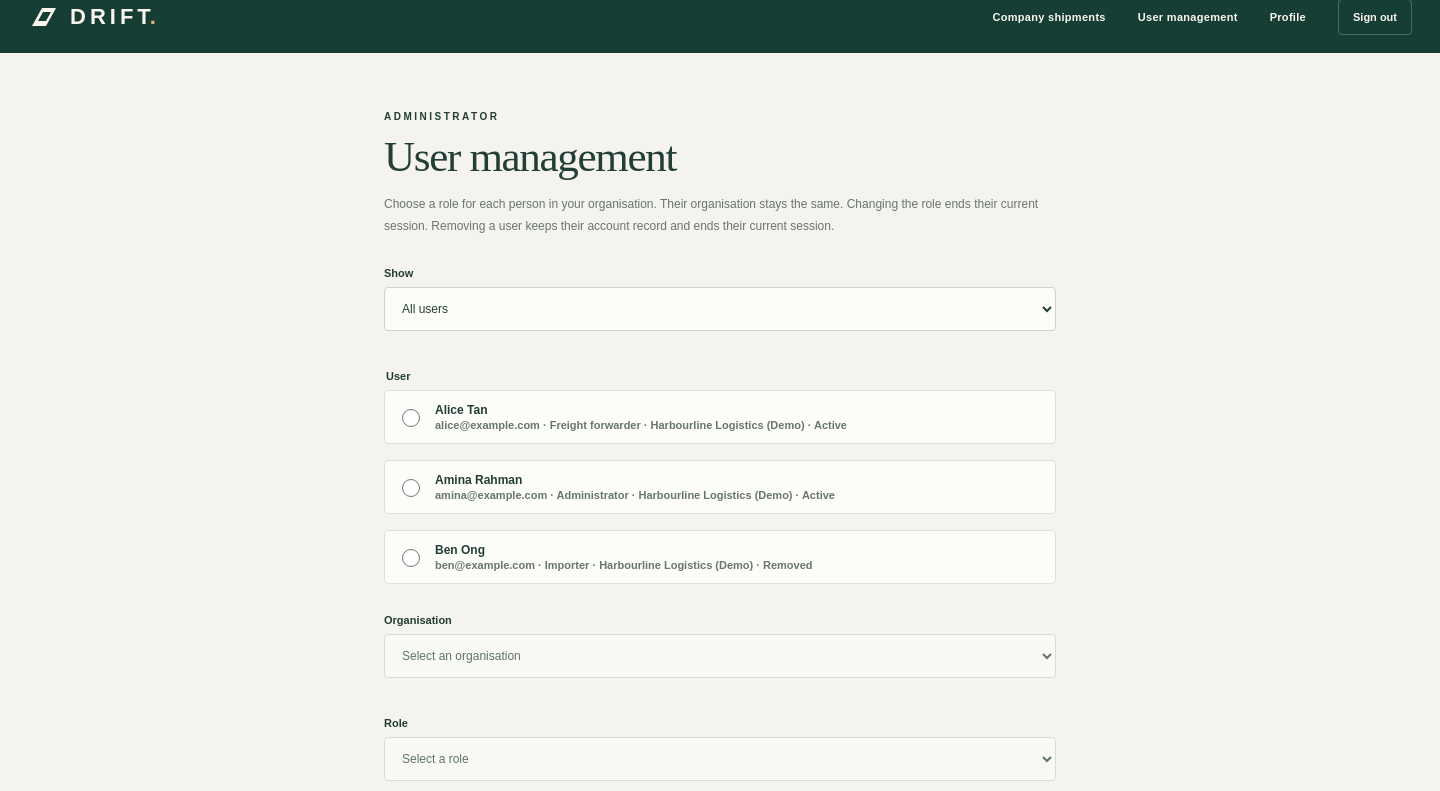
account removal › removes the confirmed user, updates the row and refreshes the history
The image size is (1440, 791).
Click the radio button labelled "Alice Tan": (411, 418) [402,409,420,427]
(page scrolled)
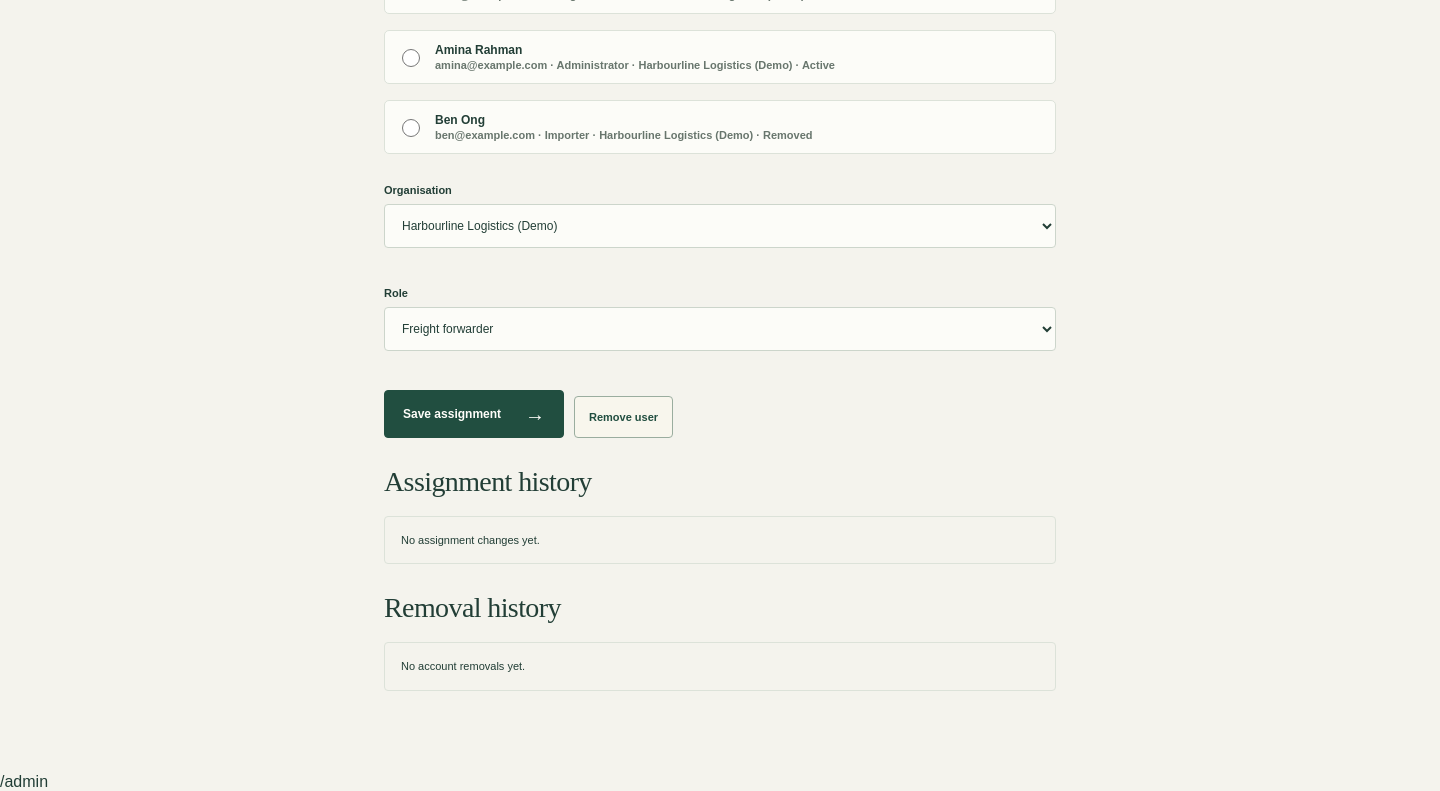
Click the button named "Remove Alice Tan": (624, 417) [574,396,673,438]
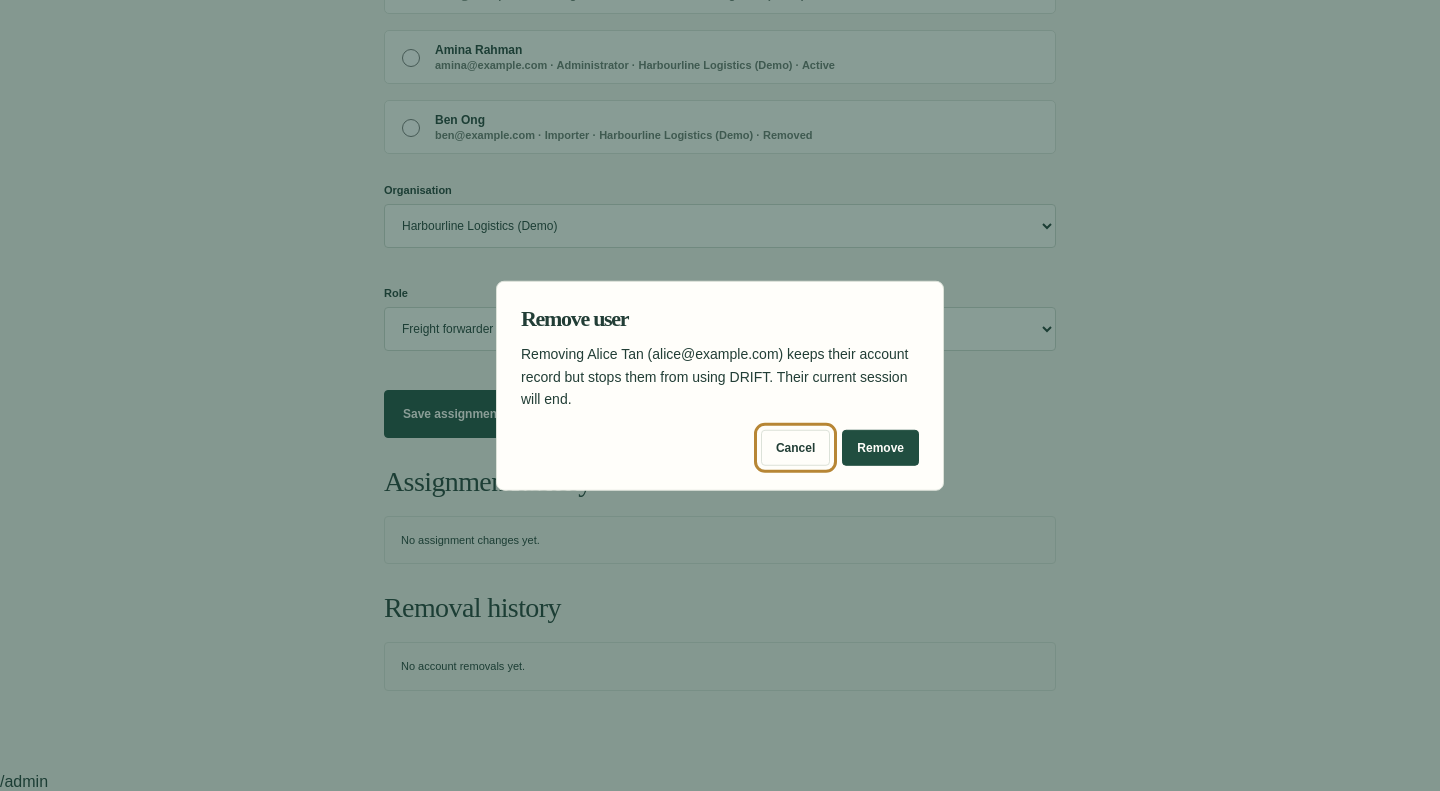
Result: the dialog "Remove user" shows "Alice Tan (alice@example.com)" at [496,281,944,491]
Result: the dialog "Remove user" shows "Their current session will end." at [521,346,908,407]
Click the button "Remove": (881, 448) [842,430,919,466]
(page scrolled)
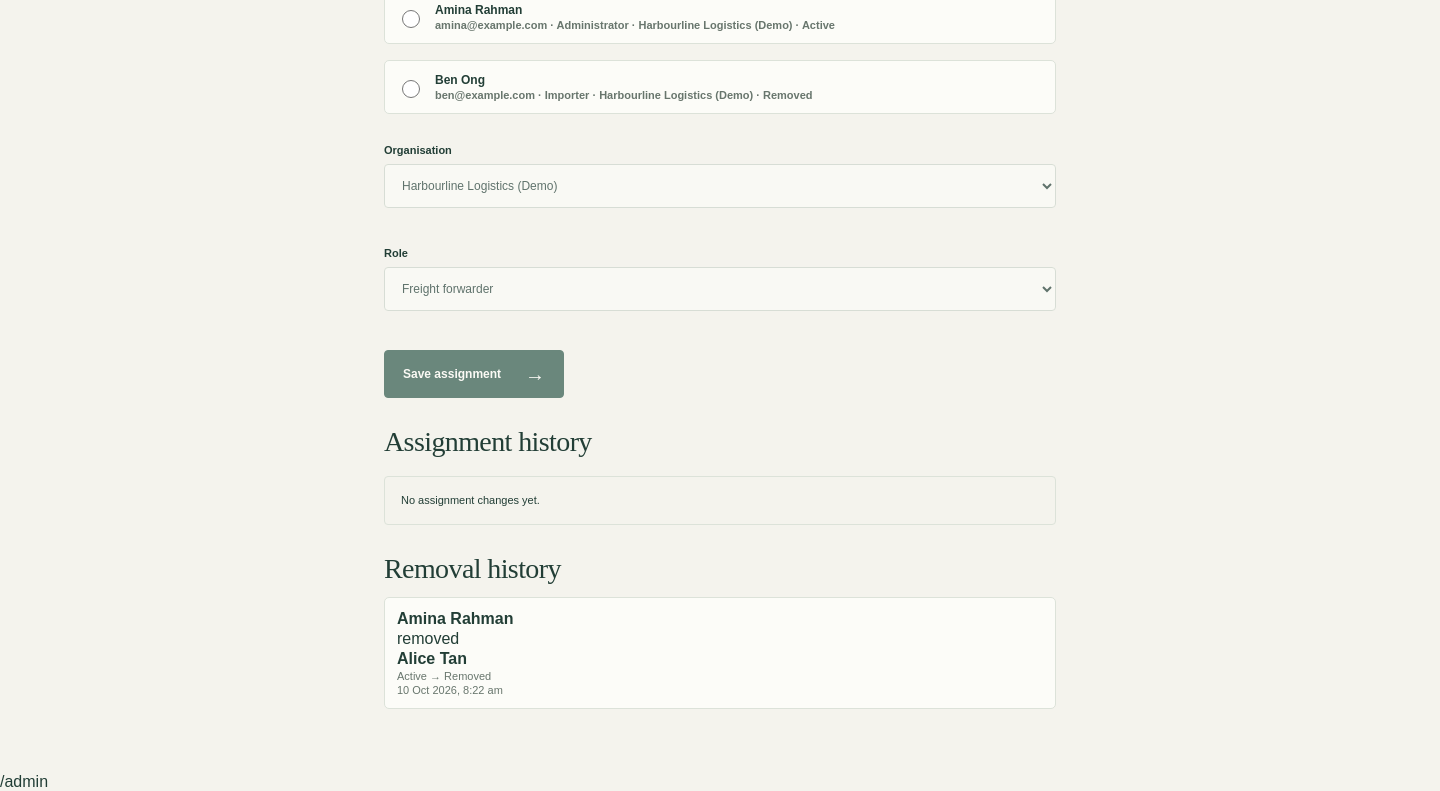
Result: the dropdown labelled "Role" is disabled at [384,267,1056,311]
Result: the button "Save assignment →" is disabled at [384,350,564,398]
Result: the text "Active → Removed" is shown at [397,670,491,682]
